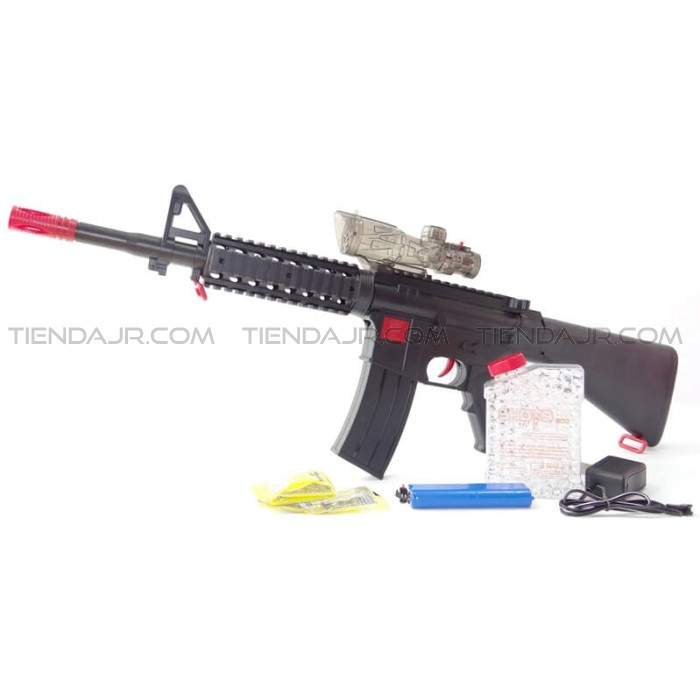Arma Falsa: (13, 190, 684, 451)
